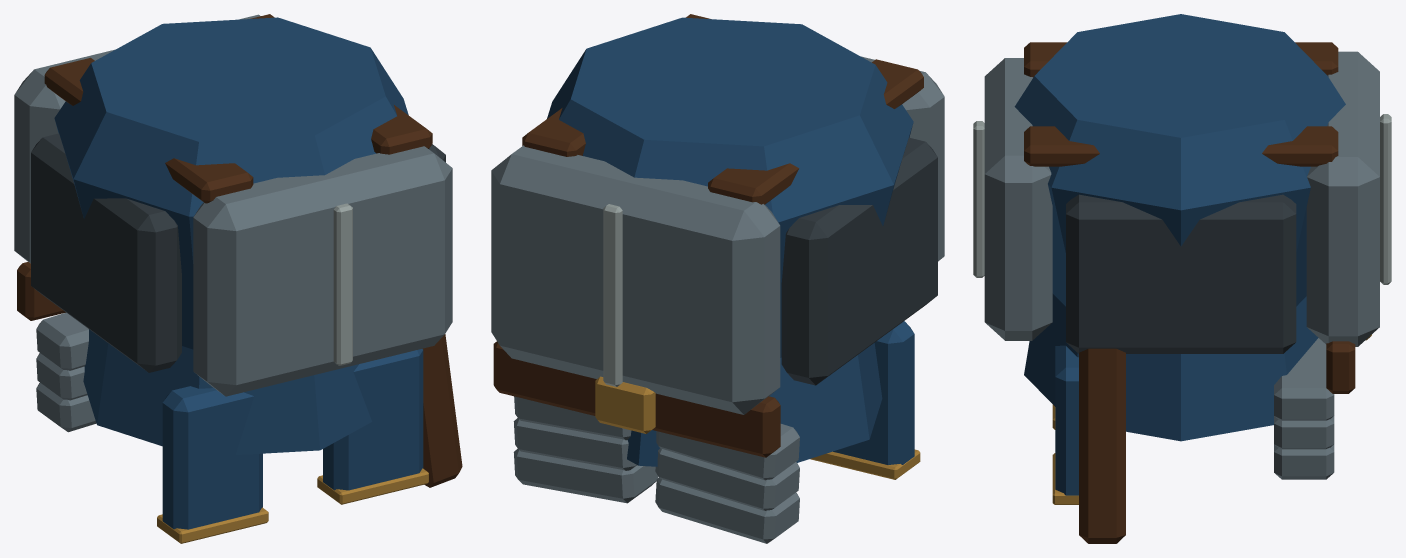
The model's file is Body.glb.
3 renders of one model, left to right at view 1: azimuth 30°, elevation 25°; view 2: azimuth 150°, elevation 25°; view 3: azimuth 270°, elevation 25°, orthographic. The views are drawn at different scales.
Visible parts, largest first — view 1: Sculpture; view 2: Sculpture; view 3: Sculpture.
Part boxes in pixels (left/top/right/bottom): Sculpture: left=14, top=14, right=462, bottom=543; Sculpture: left=491, top=14, right=944, bottom=543; Sculpture: left=973, top=14, right=1391, bottom=543.
Size of the model in its own units: 0.7228 by 0.8265 by 0.7985.
